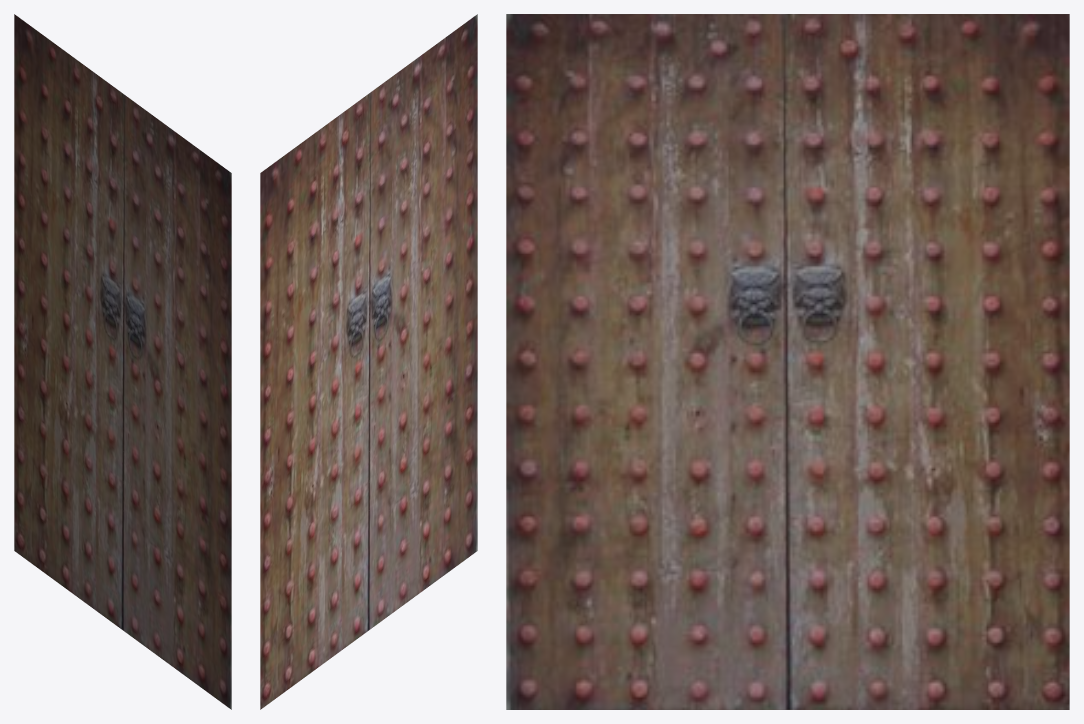
3 views of the same model, side by side, from view 1: azimuth 30°, elevation 25°; view 2: azimuth 150°, elevation 25°; view 3: azimuth 270°, elevation 25° (orthographic). The views are drawn at different scales.
Parts seen in each view (by area): view 1: Box01; view 2: Box01; view 3: Box01.
Boxes of the visible parts, x1,y1,x2,y2 form: Box01: [14, 14, 231, 709]; Box01: [260, 14, 477, 709]; Box01: [506, 14, 1069, 709].
Size of the model in its own units: 0 by 145 by 106.
